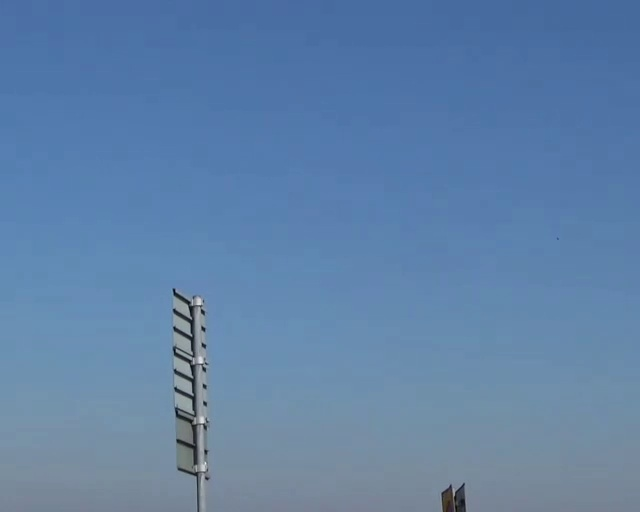BIRD: (548, 226, 565, 245)
